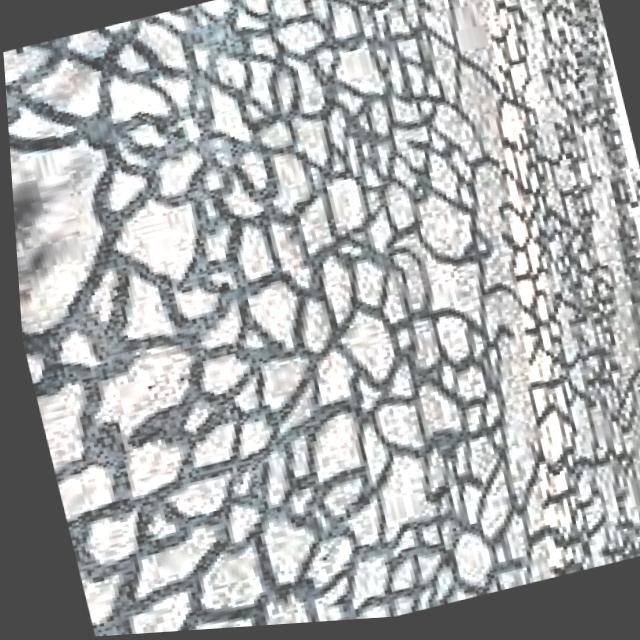alligator_cracks: (0, 0, 521, 640)
